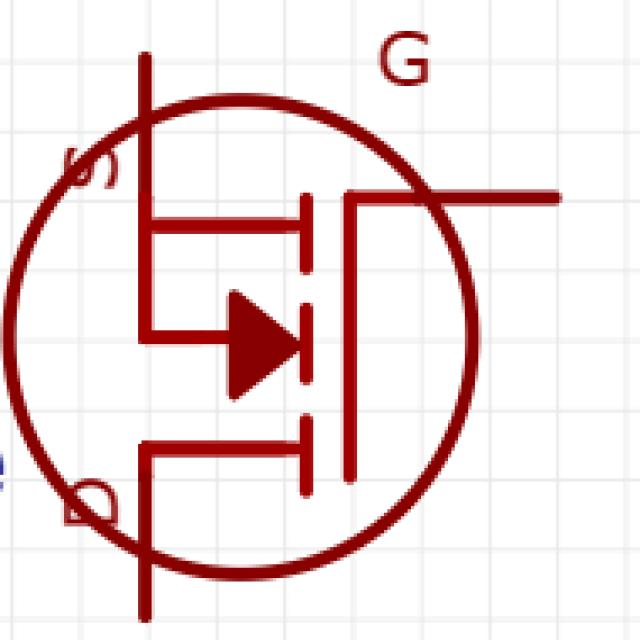nmos: (1, 16, 618, 640)
